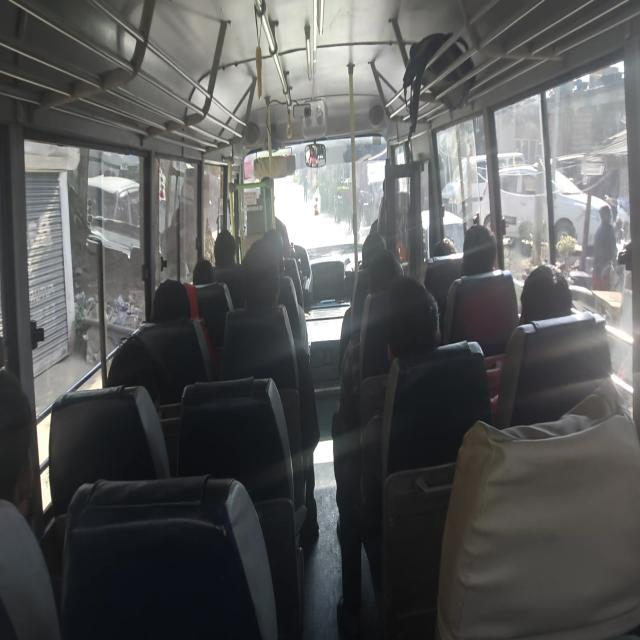person: (435, 379, 639, 638), (334, 275, 441, 635), (223, 232, 320, 542), (495, 263, 631, 429), (0, 368, 61, 638), (107, 278, 216, 410), (442, 224, 518, 354), (0, 367, 36, 522), (518, 263, 573, 325), (591, 204, 617, 290), (460, 224, 497, 276), (213, 229, 237, 269), (192, 258, 214, 286)
